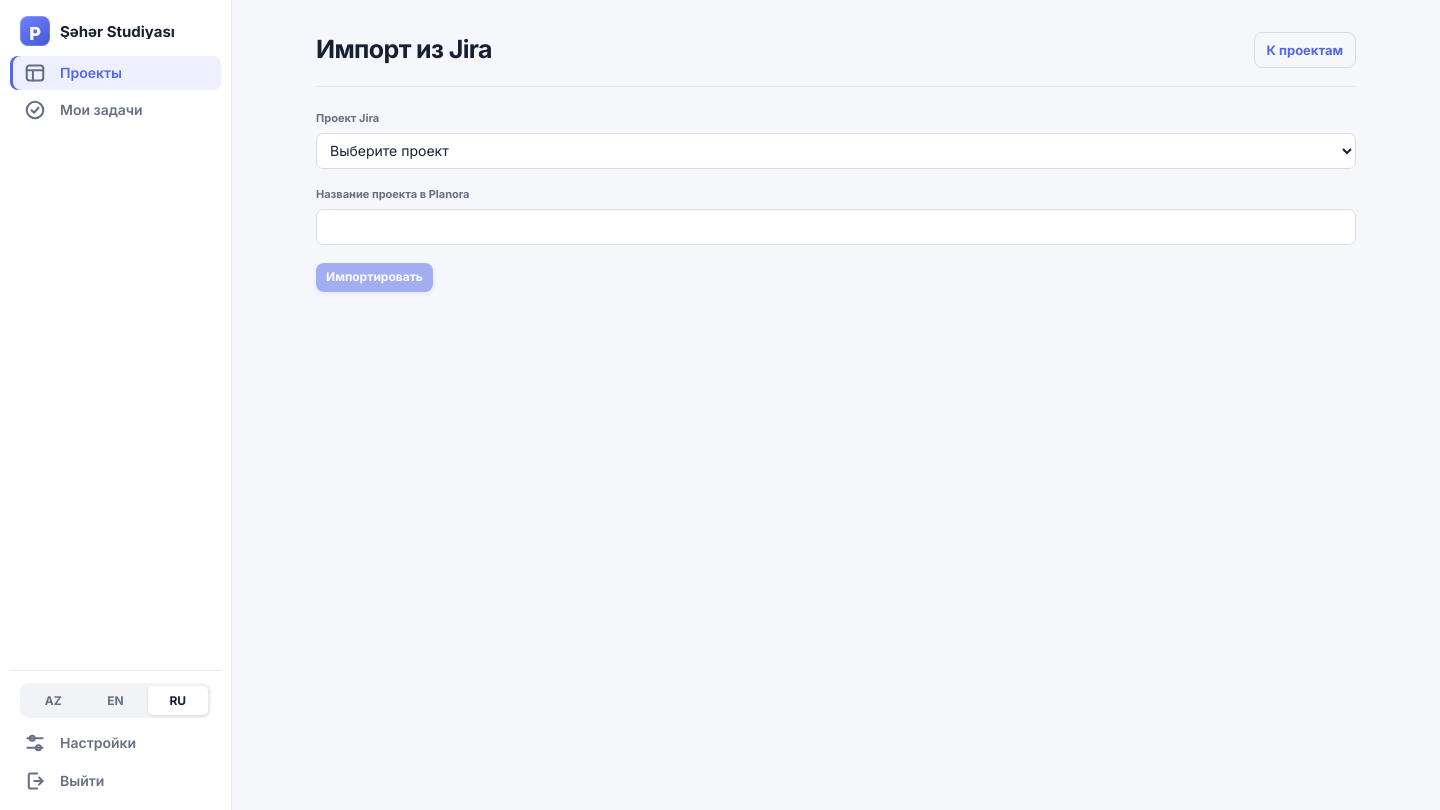
импорт из Jira › список проектов Jira подгружается и заполняет название по умолчанию
The image size is (1440, 810).
Select "PROJ — Демо проект" in the dropdown labelled "Проект Jira" at [836, 151], box [316, 133, 1356, 169]
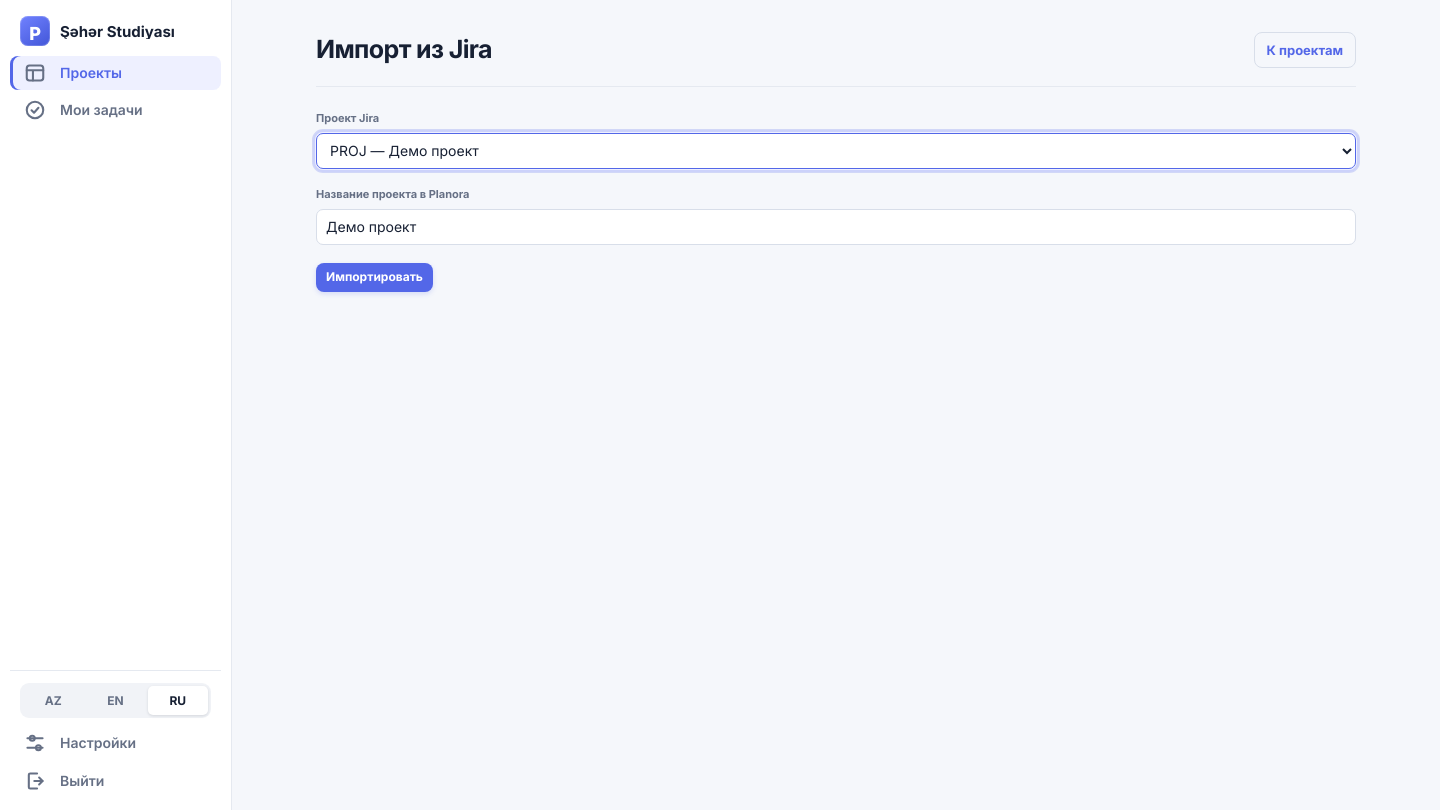
expect the field labelled "Название проекта в Planora" holds "Демо проект": met, box [316, 209, 1356, 245]
